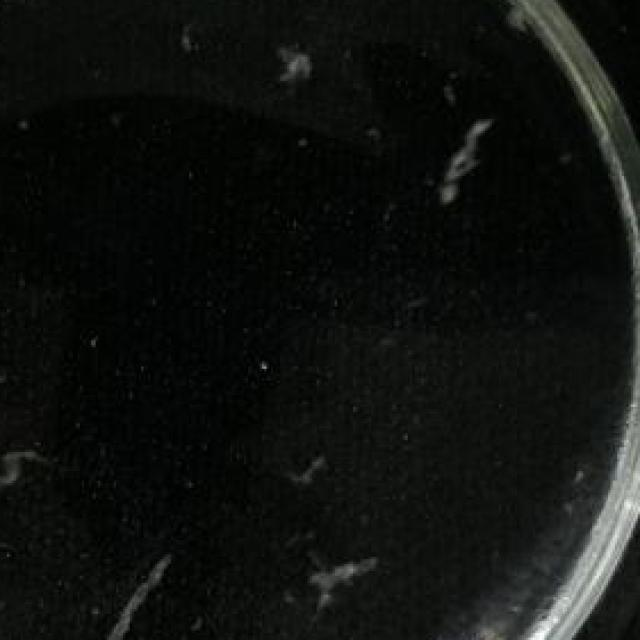Microplastic: (93, 537, 170, 640), (424, 96, 492, 210), (303, 538, 378, 621), (269, 36, 335, 95), (0, 428, 36, 492)
